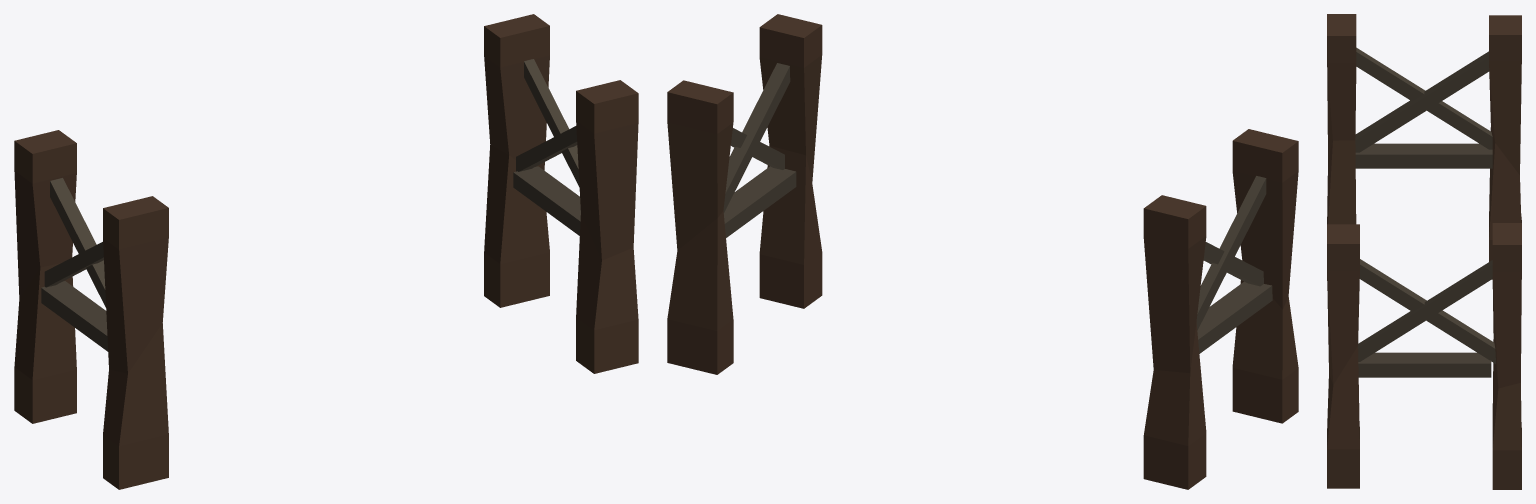
Rendered from SM_Prop_Liferaft_Stand_01.glb.
The picture shows the model from 3 angles, left to right: view 1: azimuth 30°, elevation 25°; view 2: azimuth 150°, elevation 25°; view 3: azimuth 270°, elevation 25°; orthographic projection. The views are drawn at different scales.
Visible parts, largest first — view 1: SM_Prop_Liferaft_Stand_01; view 2: SM_Prop_Liferaft_Stand_01; view 3: SM_Prop_Liferaft_Stand_01.
Part boxes in pixels (<box>): SM_Prop_Liferaft_Stand_01: <box>14,14,638,489</box>; SM_Prop_Liferaft_Stand_01: <box>667,14,1298,489</box>; SM_Prop_Liferaft_Stand_01: <box>1327,14,1521,489</box>.
Bounding box in the file's own units: 0.0343 × 0.017 × 0.0122.
